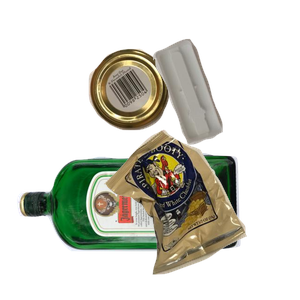glass: (14, 150, 247, 300)
metal: (86, 46, 248, 169)
plastic: (150, 36, 300, 173)
trash: (101, 127, 300, 300)
